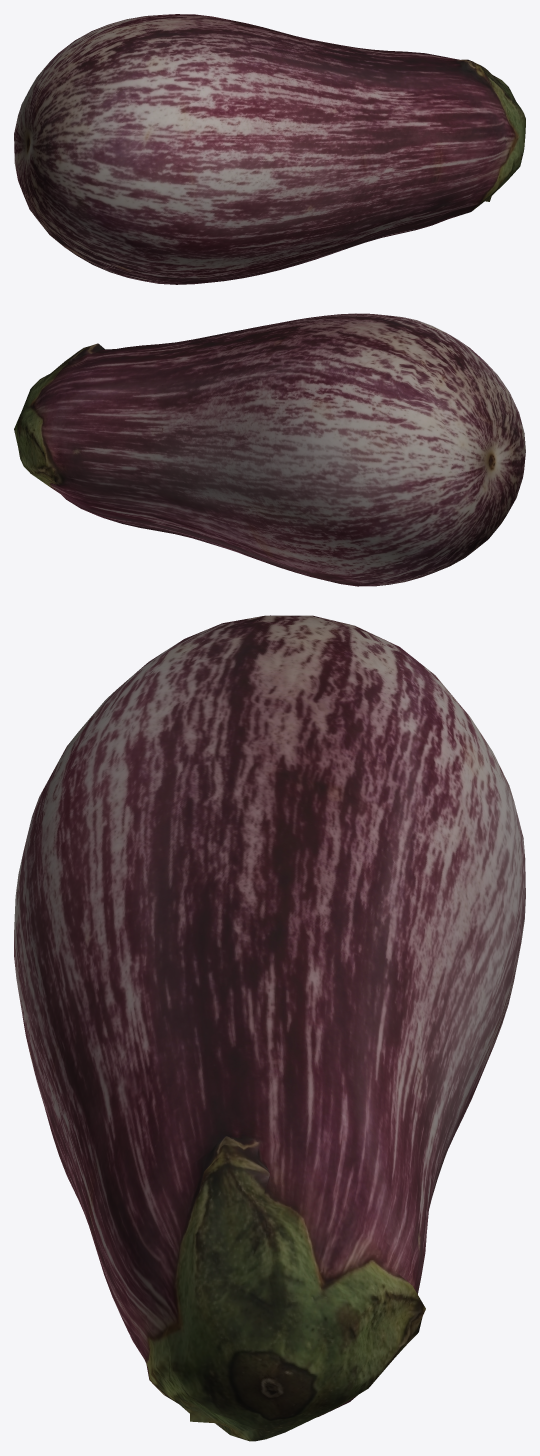
File: kiri_aubergine.gltf
The picture shows the model from 3 angles, top to bottom: view 1: azimuth 30°, elevation 25°; view 2: azimuth 150°, elevation 25°; view 3: azimuth 270°, elevation 25°; orthographic projection. The views are drawn at different scales.
Parts seen in each view (by area): view 1: A7_Eggplant; view 2: A7_Eggplant; view 3: A7_Eggplant.
Part boxes in pixels (x1,y1,x2,y2): A7_Eggplant: [14, 14, 525, 284]; A7_Eggplant: [14, 313, 525, 586]; A7_Eggplant: [14, 615, 525, 1441].
Size of the model in its own units: 0.2656 by 0.1324 by 0.1207.
Materials: 1 (1 with a texture image).
